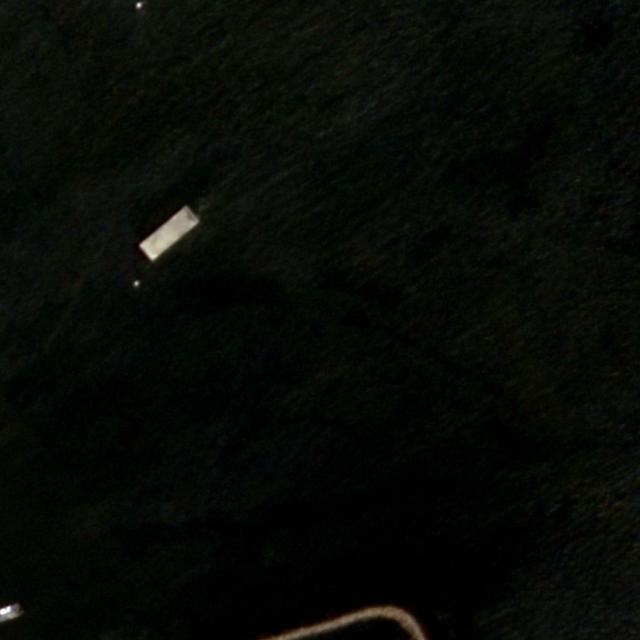boats: (141, 208, 190, 257)
